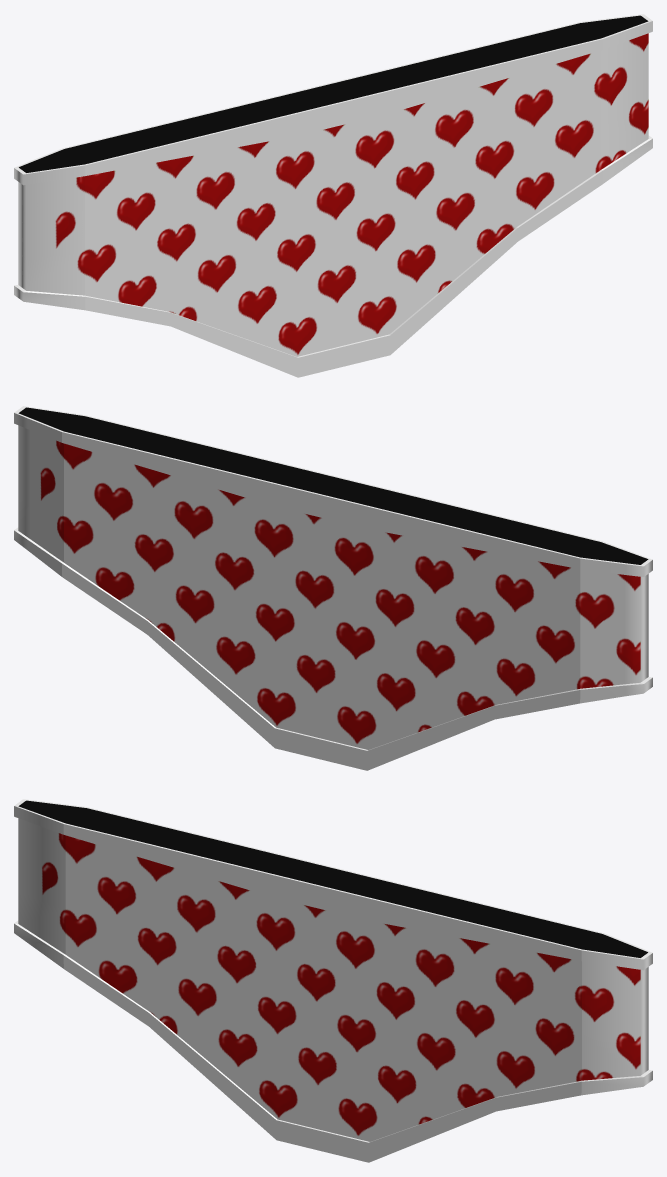
File: panties.FBX
3 views of the same model, one above another, from view 1: azimuth 30°, elevation 25°; view 2: azimuth 150°, elevation 25°; view 3: azimuth 330°, elevation 25° (orthographic).
Parts seen in each view (by area): view 1: Box001; view 2: Box001; view 3: Box001.
Boxes of the visible parts, x1=… form: Box001: x1=14, y1=14, x2=652, y2=377; Box001: x1=14, y1=406, x2=652, y2=770; Box001: x1=14, y1=799, x2=652, y2=1162.
Size of the model in its own units: 18.14 by 7.27 by 1.16.
